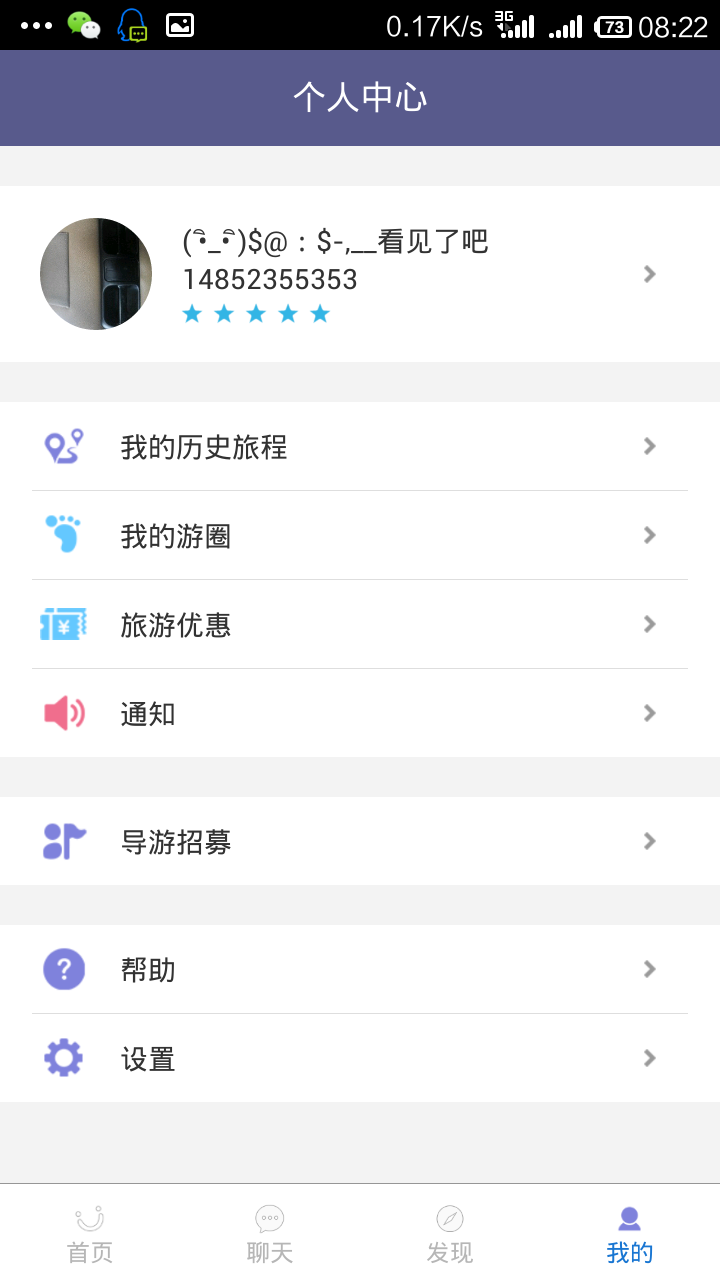nav: (4, 1180, 720, 1278)
